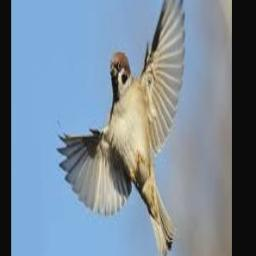Sparrow: (56, 0, 184, 256)
